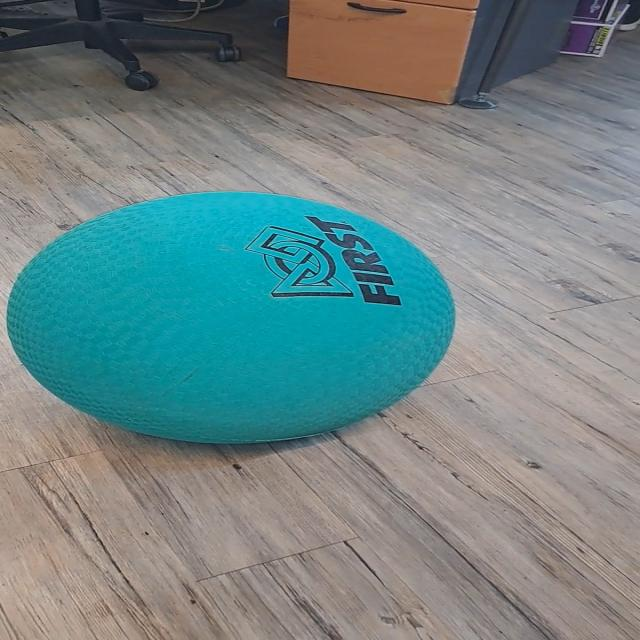ALGAE: (4, 189, 457, 445)
